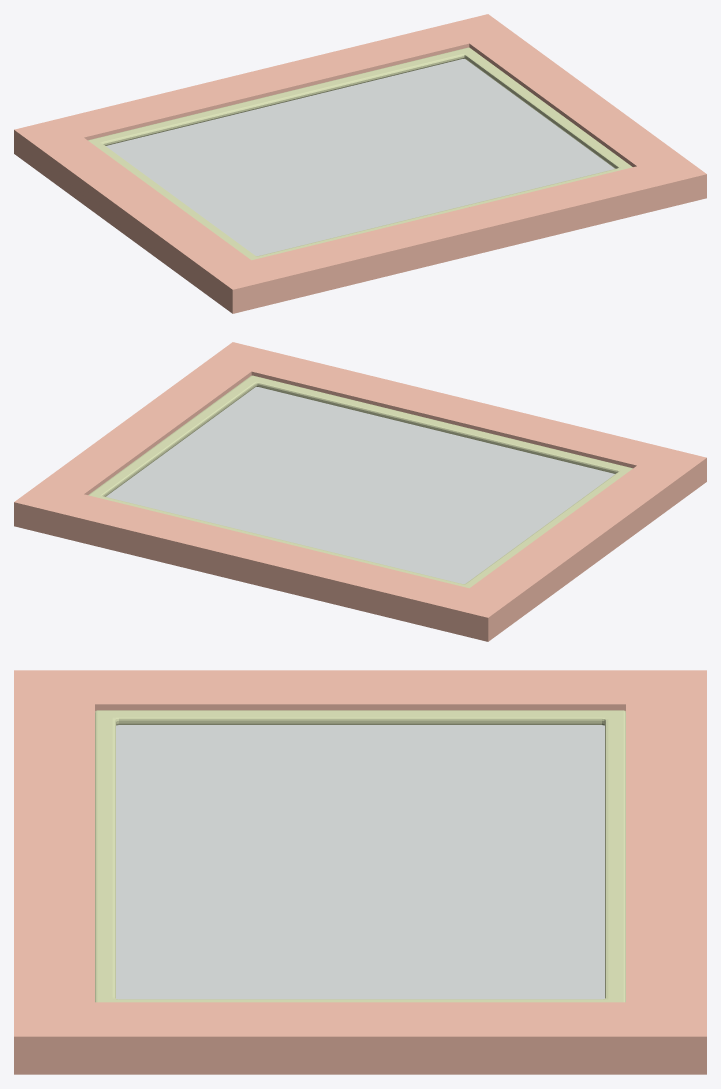
File: broken_photo_frame_5.fbx
The picture shows the model from 3 angles, top to bottom: view 1: azimuth 30°, elevation 25°; view 2: azimuth 150°, elevation 25°; view 3: azimuth 270°, elevation 25°; orthographic projection. The views are drawn at different scales.
Parts seen in each view (by area): view 1: Plane, Plane.001, Plane.001_cell.006, Plane_cell.002, Plane_cell.003, Plane.001_cell.003, Plane.001_cell.004, Plane.002, Plane_cell.007, Plane.001_cell.002, Plane.002_cell.012, Plane.002_cell.002 (+4 smaller); view 2: Plane, Plane.001, Plane_cell.002, Plane.001_cell.006, Plane_cell.003, Plane.001_cell.003, Plane.002, Plane.001_cell.004, Plane_cell.007, Plane_cell.005, Plane.002_cell.012, Plane_cell.011 (+4 smaller); view 3: Plane.001, Plane, Plane_cell.003, Plane.001_cell.006, Plane_cell.002, Plane.001_cell.004, Plane.001_cell.003, Plane.002, Plane.001_cell.001, Plane_cell.007, Plane_cell.006, Plane.001_cell.002 (+7 smaller).
Boxes of the visible parts, x1,y1,x2,y2 form: Plane: (14,20,706,313); Plane.001: (164,59,614,255); Plane.001_cell.006: (233,77,421,162); Plane_cell.002: (14,88,211,219); Plane_cell.003: (344,20,582,92); Plane.001_cell.003: (390,59,536,134); Plane.001_cell.004: (106,119,270,188); Plane.002: (103,55,632,260); Plane_cell.007: (183,49,371,108); Plane.001_cell.002: (366,117,600,158); Plane.002_cell.012: (395,47,517,88); Plane.002_cell.002: (259,65,397,104); Plane: (14,342,706,641); Plane.001: (174,387,614,583); Plane_cell.002: (319,525,603,640); Plane.001_cell.006: (184,477,390,553); Plane_cell.003: (30,432,182,566); Plane.001_cell.003: (106,447,278,515); Plane.002: (102,375,632,585); Plane.001_cell.004: (341,523,518,583); Plane_cell.007: (159,518,341,594); Plane_cell.005: (625,463,679,527); Plane.002_cell.012: (88,461,167,513); Plane_cell.011: (599,519,642,559); Plane.001: (116,725,604,999); Plane: (14,670,706,1074); Plane_cell.003: (400,925,706,1074); Plane.001_cell.006: (369,819,604,947); Plane_cell.002: (335,670,706,802); Plane.001_cell.004: (419,725,604,824); Plane.001_cell.003: (378,921,604,999); Plane.002: (95,710,625,1002); Plane.001_cell.001: (116,725,429,845); Plane_cell.007: (626,800,706,926); Plane_cell.006: (136,1002,403,1074); Plane.001_cell.002: (184,864,381,999).
Size of the model in its own units: 250 by 12.16 by 200.
